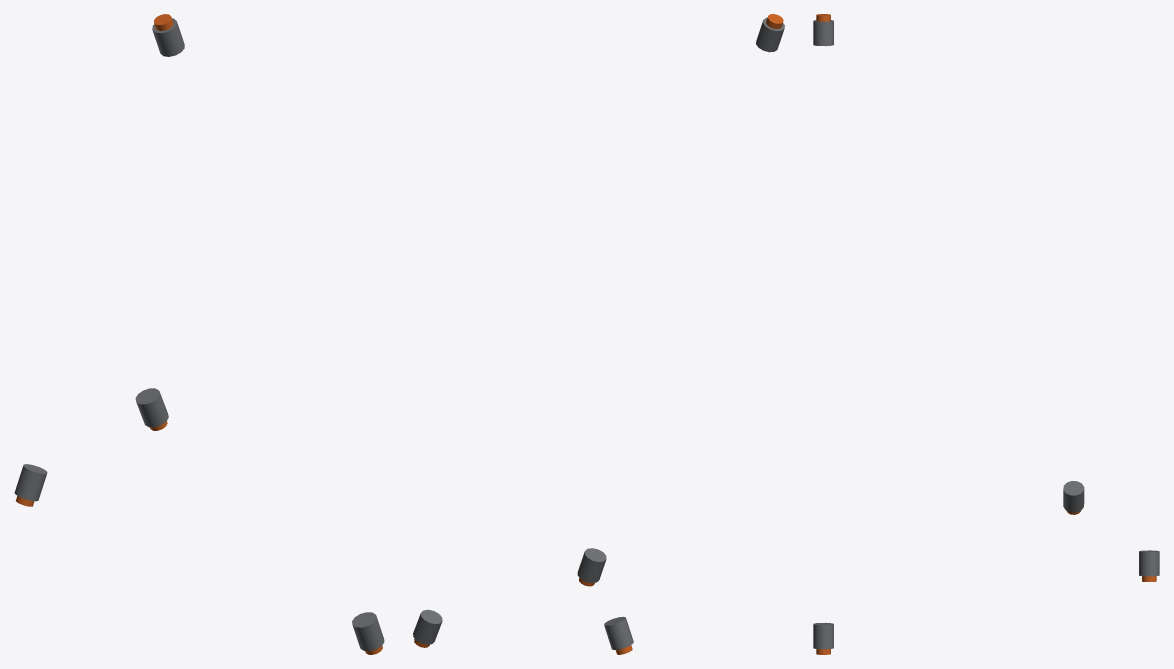
Rendered from u70_sensors.obj.
3 views of the same model, side by side, from view 1: azimuth 30°, elevation 25°; view 2: azimuth 150°, elevation 25°; view 3: azimuth 270°, elevation 25° (orthographic). The views are drawn at different scales.
Visible parts, largest first — view 1: u70_sensors; view 2: u70_sensors; view 3: u70_sensors.
Boxes of the visible parts, box(x1,y1,x2,y2) form: u70_sensors: box(14, 14, 384, 654); u70_sensors: box(413, 14, 784, 654); u70_sensors: box(813, 14, 1159, 654).
Bounding box in the file's own units: 1.42 × 4.08 × 2.29.
